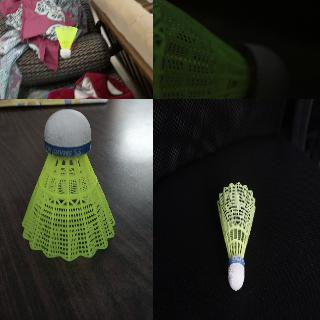shuttlecock: (23, 109, 115, 261), (153, 0, 286, 98), (216, 182, 255, 292), (55, 26, 77, 58)
